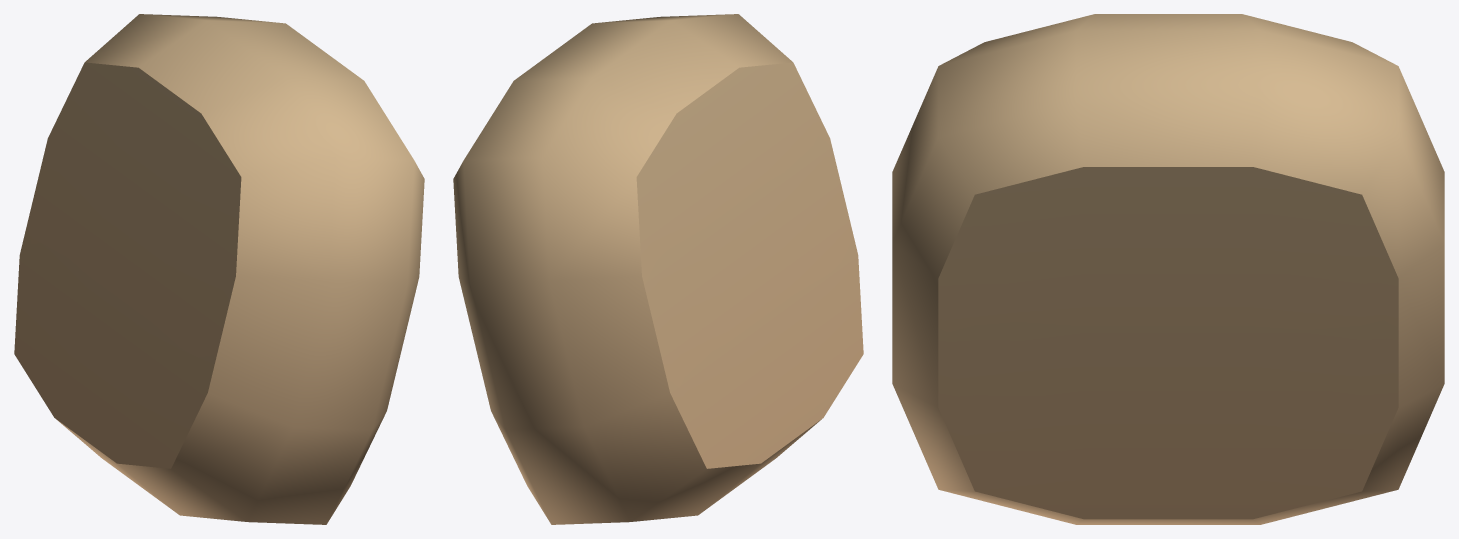
The model's file is pillow-round-reclining.glb.
3 views of the same model, side by side, from view 1: azimuth 30°, elevation 25°; view 2: azimuth 150°, elevation 25°; view 3: azimuth 270°, elevation 25° (orthographic). The views are drawn at different scales.
Visible parts, largest first — view 1: pillow-round-reclining; view 2: pillow-round-reclining; view 3: pillow-round-reclining.
Boxes of the visible parts, x1,y1,x2,y2 form: pillow-round-reclining: [14, 14, 424, 524]; pillow-round-reclining: [453, 14, 863, 524]; pillow-round-reclining: [892, 14, 1444, 524].
Bounding box in the file's own units: 0.194 × 0.3054 × 0.3.
